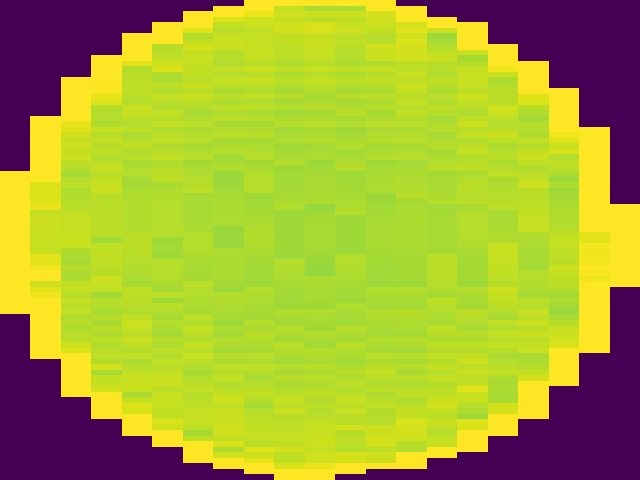sphere: (2, 4, 640, 480)
